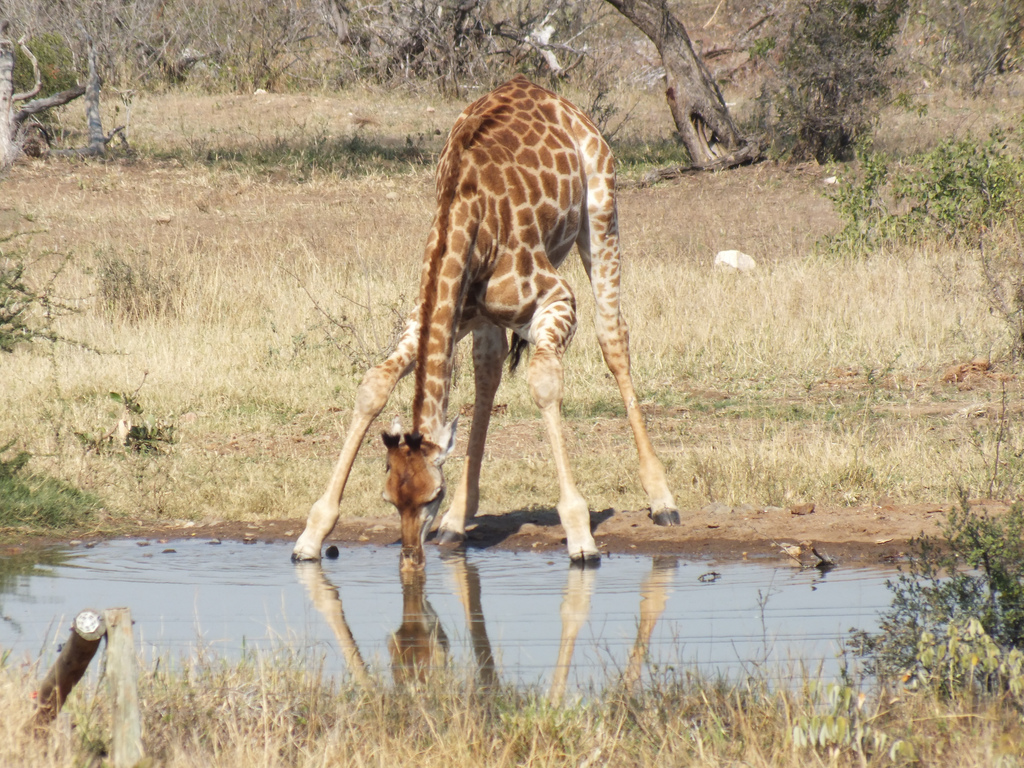giraffe: (294, 52, 705, 597)
